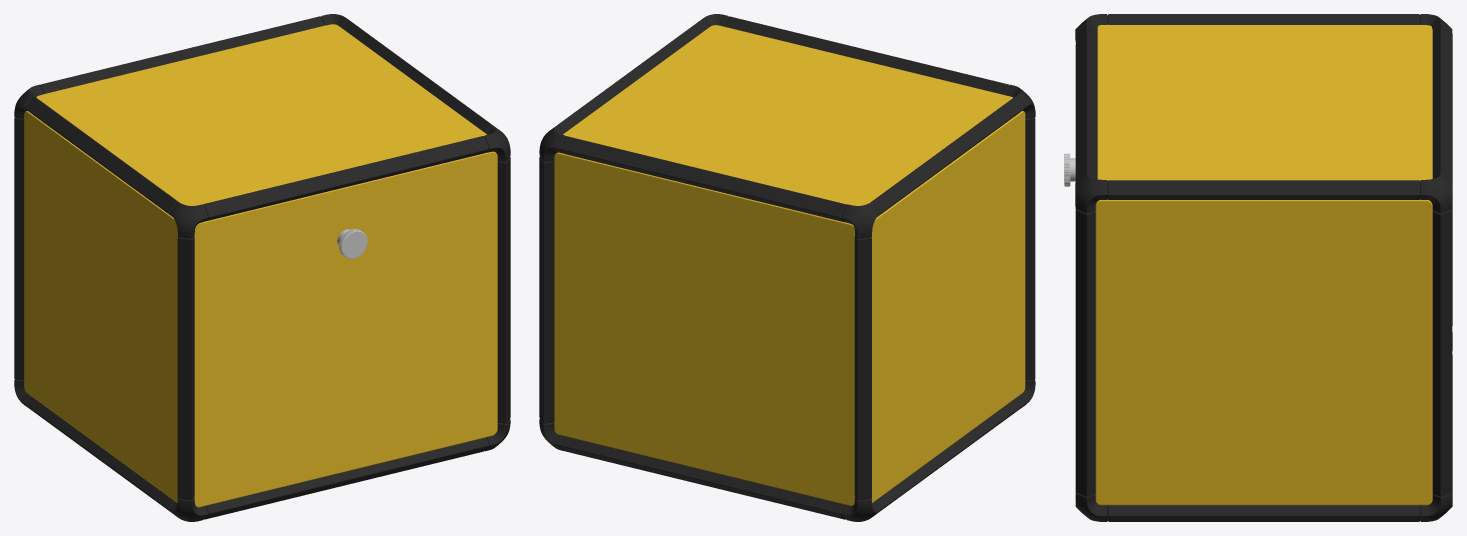
3 renders of one model, left to right at view 1: azimuth 30°, elevation 25°; view 2: azimuth 150°, elevation 25°; view 3: azimuth 270°, elevation 25°, orthographic. The views are drawn at different scales.
Visible parts, largest first — view 1: 420x374x374; view 2: 420x374x374; view 3: 420x374x374.
Part boxes in pixels (bbox=[...]): 420x374x374: bbox=[14, 14, 510, 521]; 420x374x374: bbox=[539, 14, 1035, 521]; 420x374x374: bbox=[1064, 14, 1452, 521].
Bounding box in the file's own units: 0.4977 × 0.4516 × 0.4646.
